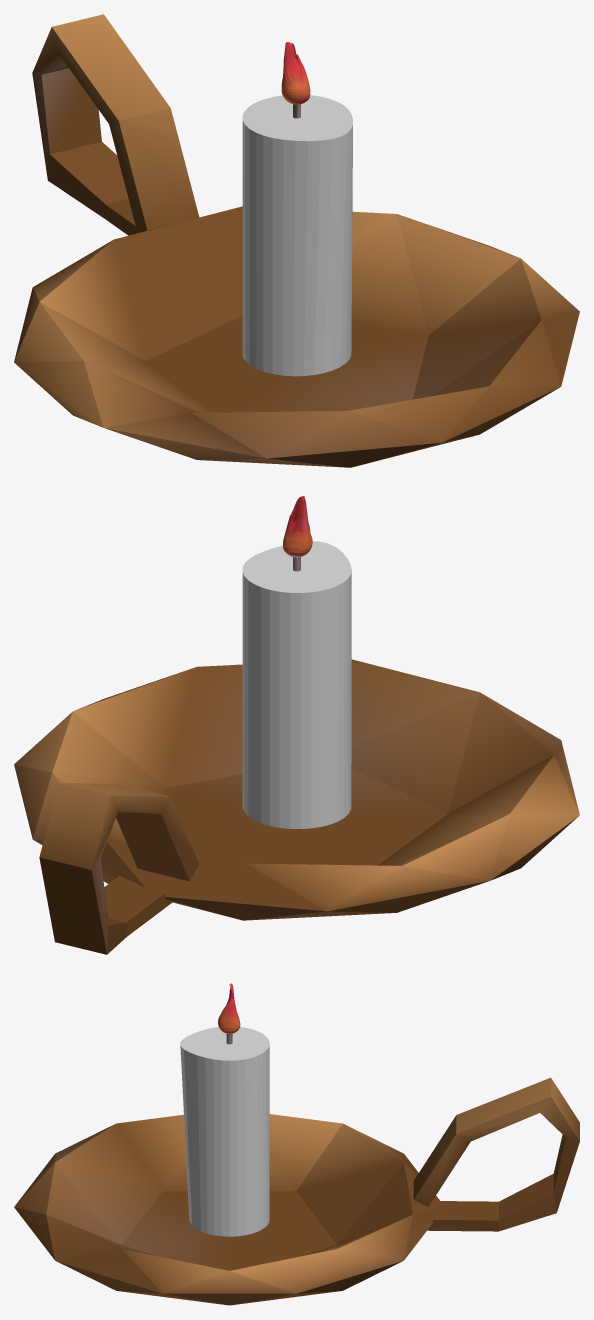
File: candle_Onai.glb
3 renders of one model, top to bottom at view 1: azimuth 30°, elevation 25°; view 2: azimuth 150°, elevation 25°; view 3: azimuth 270°, elevation 25°, orthographic. The views are drawn at different scales.
Parts seen in each view (by area): view 1: Icosphere, Sphere; view 2: Icosphere, Sphere; view 3: Icosphere, Sphere.
Part boxes in pixels (bbox=[...]): Icosphere: bbox=[14, 14, 579, 467]; Sphere: bbox=[281, 42, 310, 104]; Icosphere: bbox=[14, 541, 579, 954]; Sphere: bbox=[283, 496, 312, 557]; Icosphere: bbox=[14, 1027, 579, 1305]; Sphere: bbox=[218, 983, 240, 1033].
Size of the model in its own units: 1.9 by 1.33 by 2.63.
